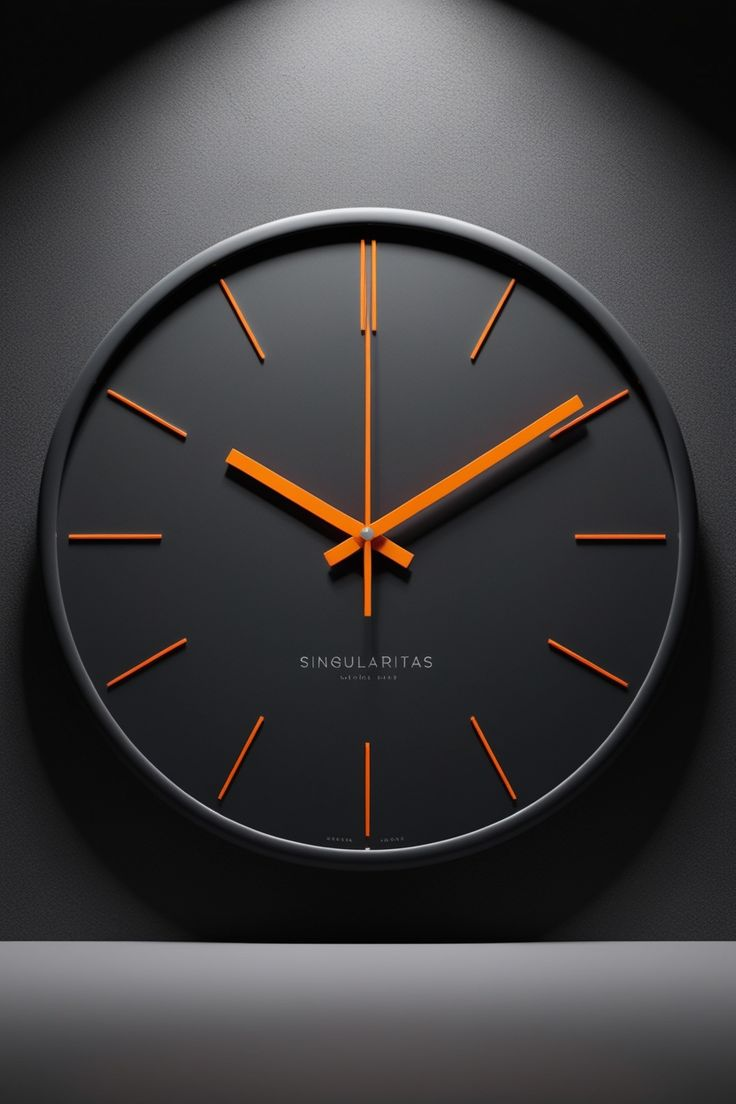clock: (30, 161, 711, 893)
